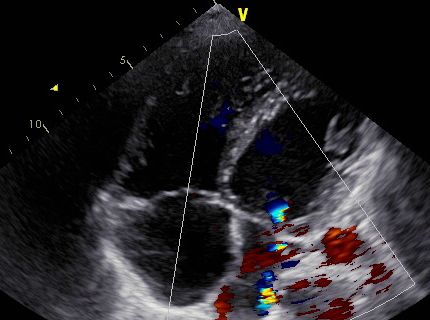MR: (243, 199, 307, 251)
